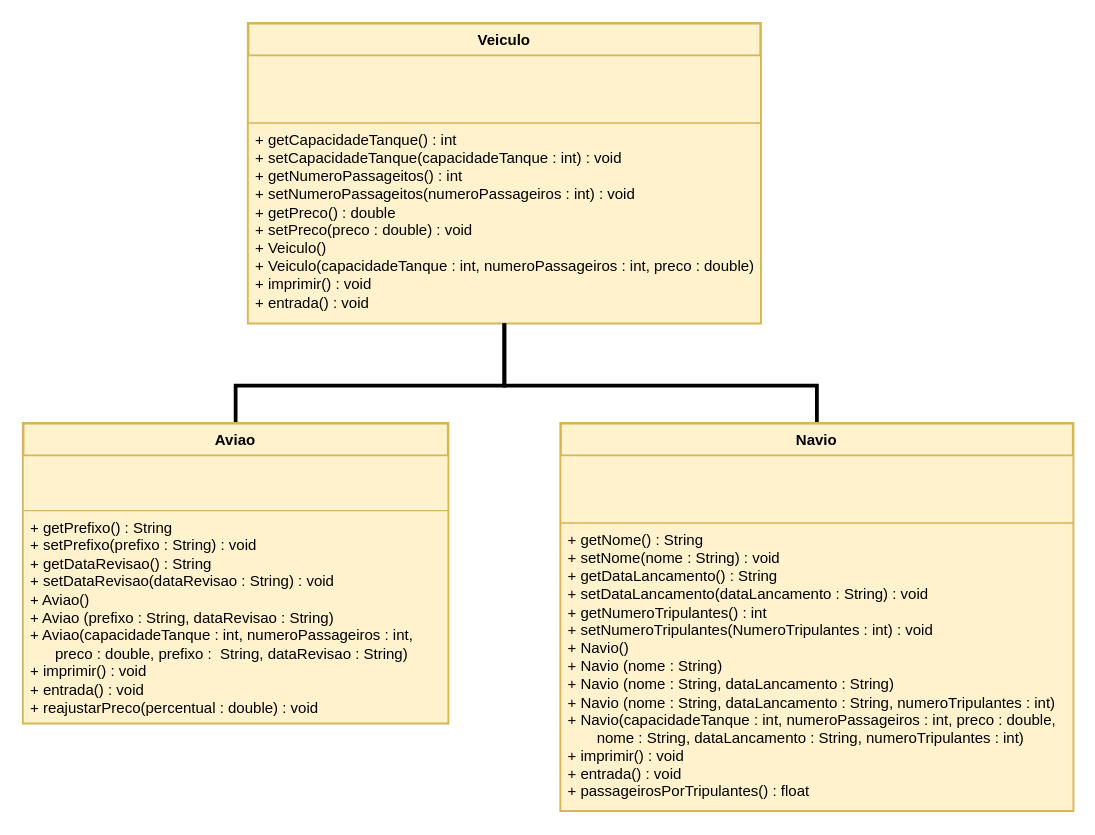
The diagram is 1095 pixels wide and 835 high, and some of its shapes have lost their labels. Here are the shapes that lost their labels. From the top down, the centre of each, then its label:
At (x=504, y=88): "# capacidadeTanque: int # numeroPassageiros : int # preco : double".
At (x=235, y=482): "- prefixo : String - dataRevisao : String".
At (x=816, y=488): "- nome : String - dataLancamento : String - numeroTripulantes : int".
